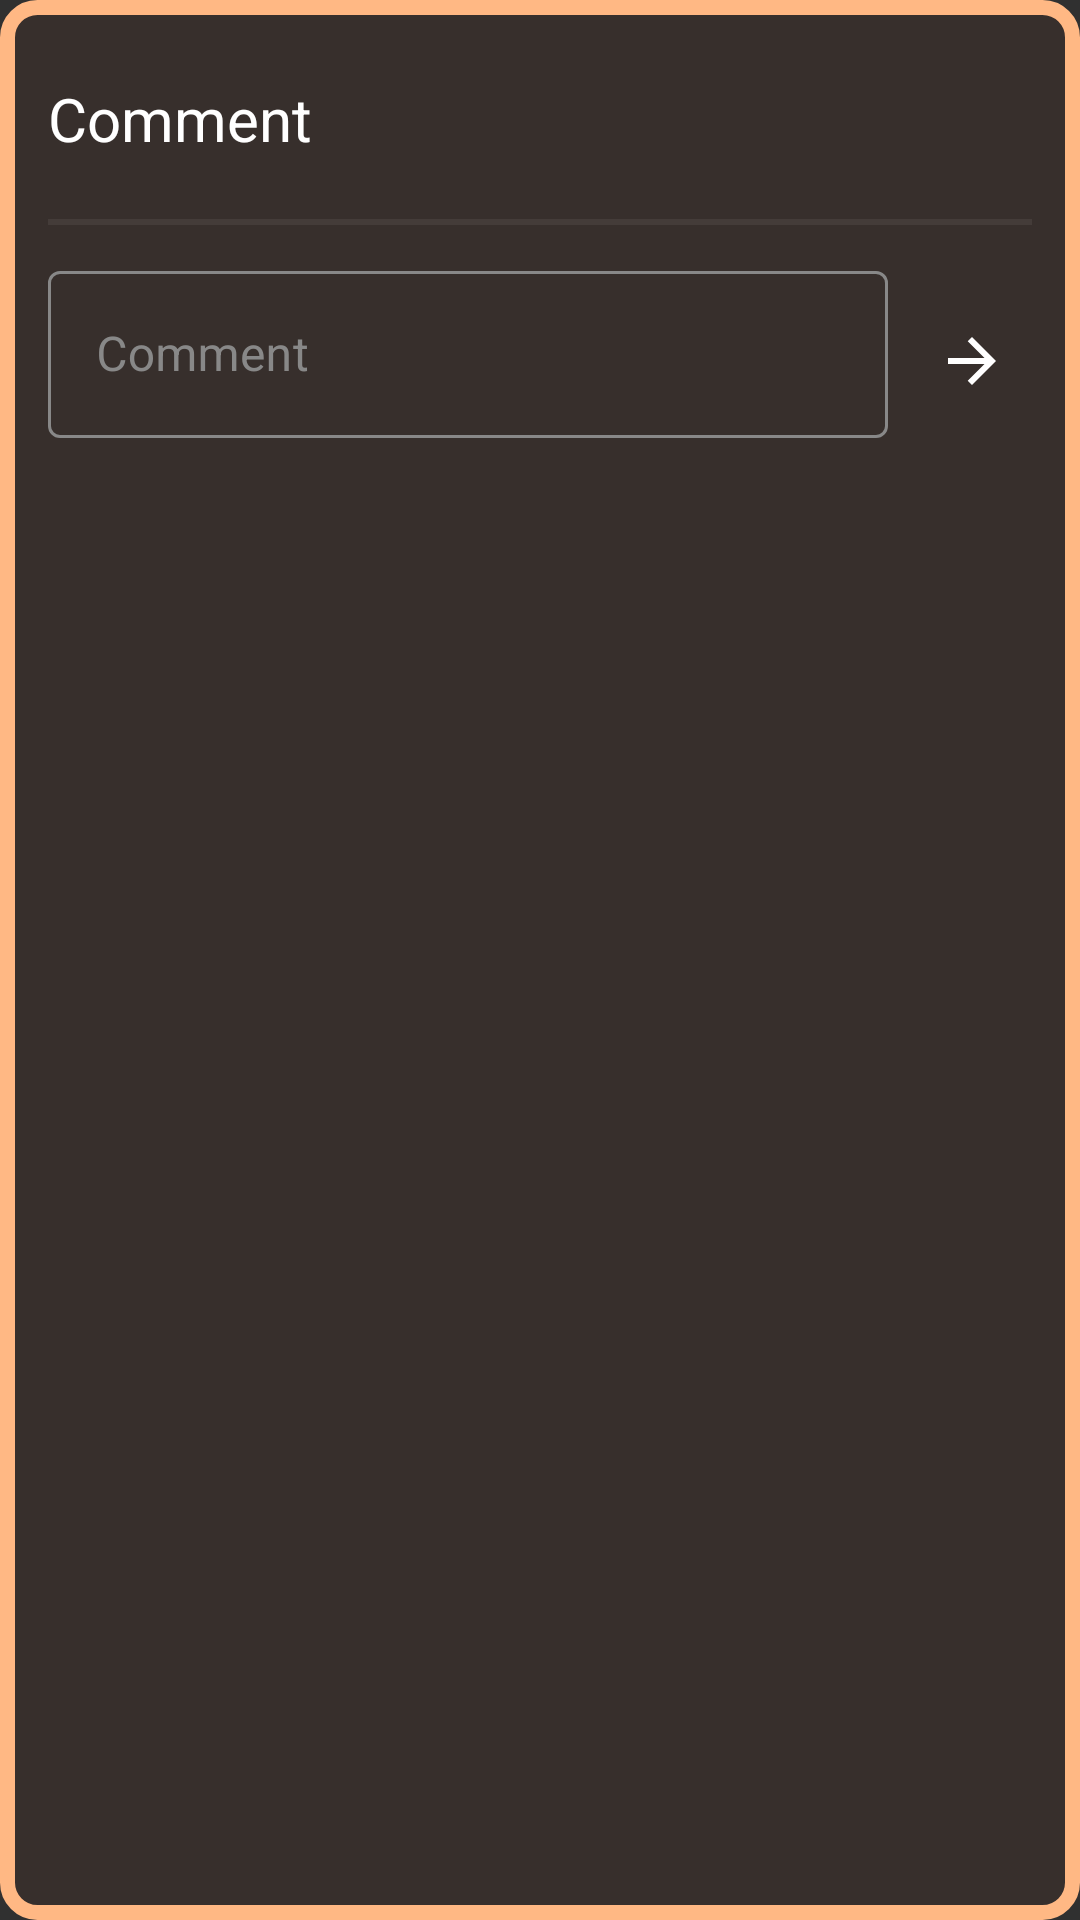

Point at icon controls on the screen. Image size 1080 × 1920, points as point (x, y).
arrow next: point (972, 361)
